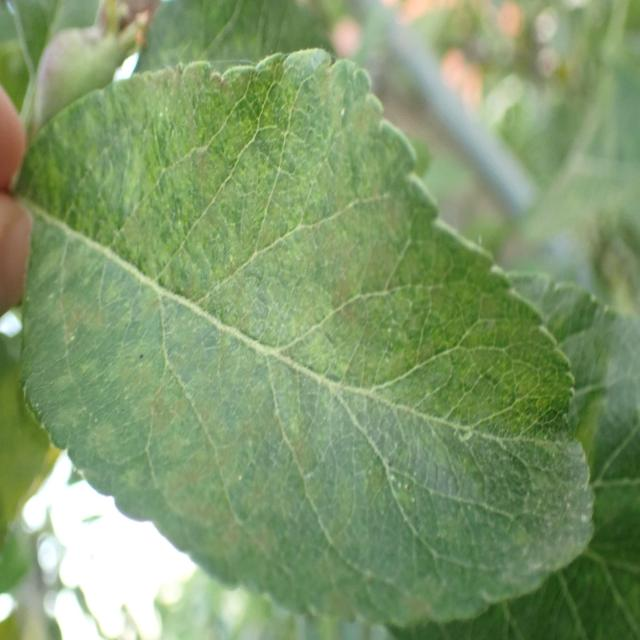scab: (30, 52, 579, 615)
